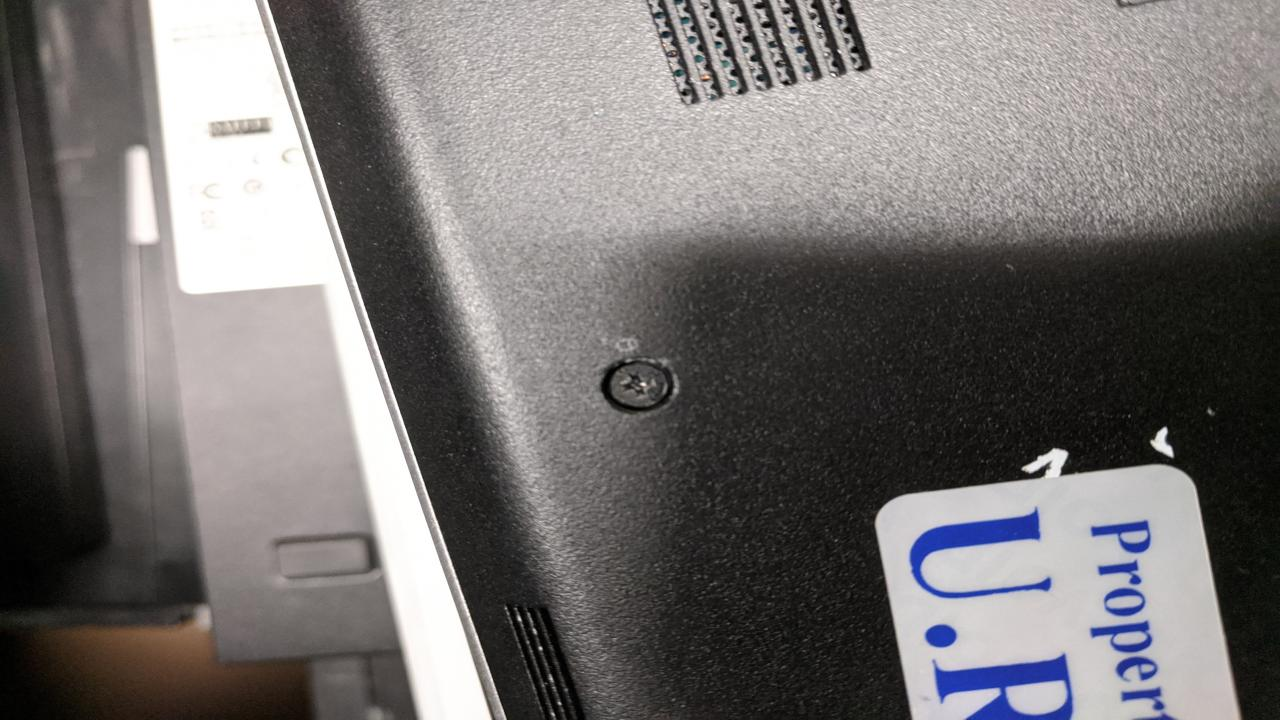CRS: (603, 353, 674, 414)
